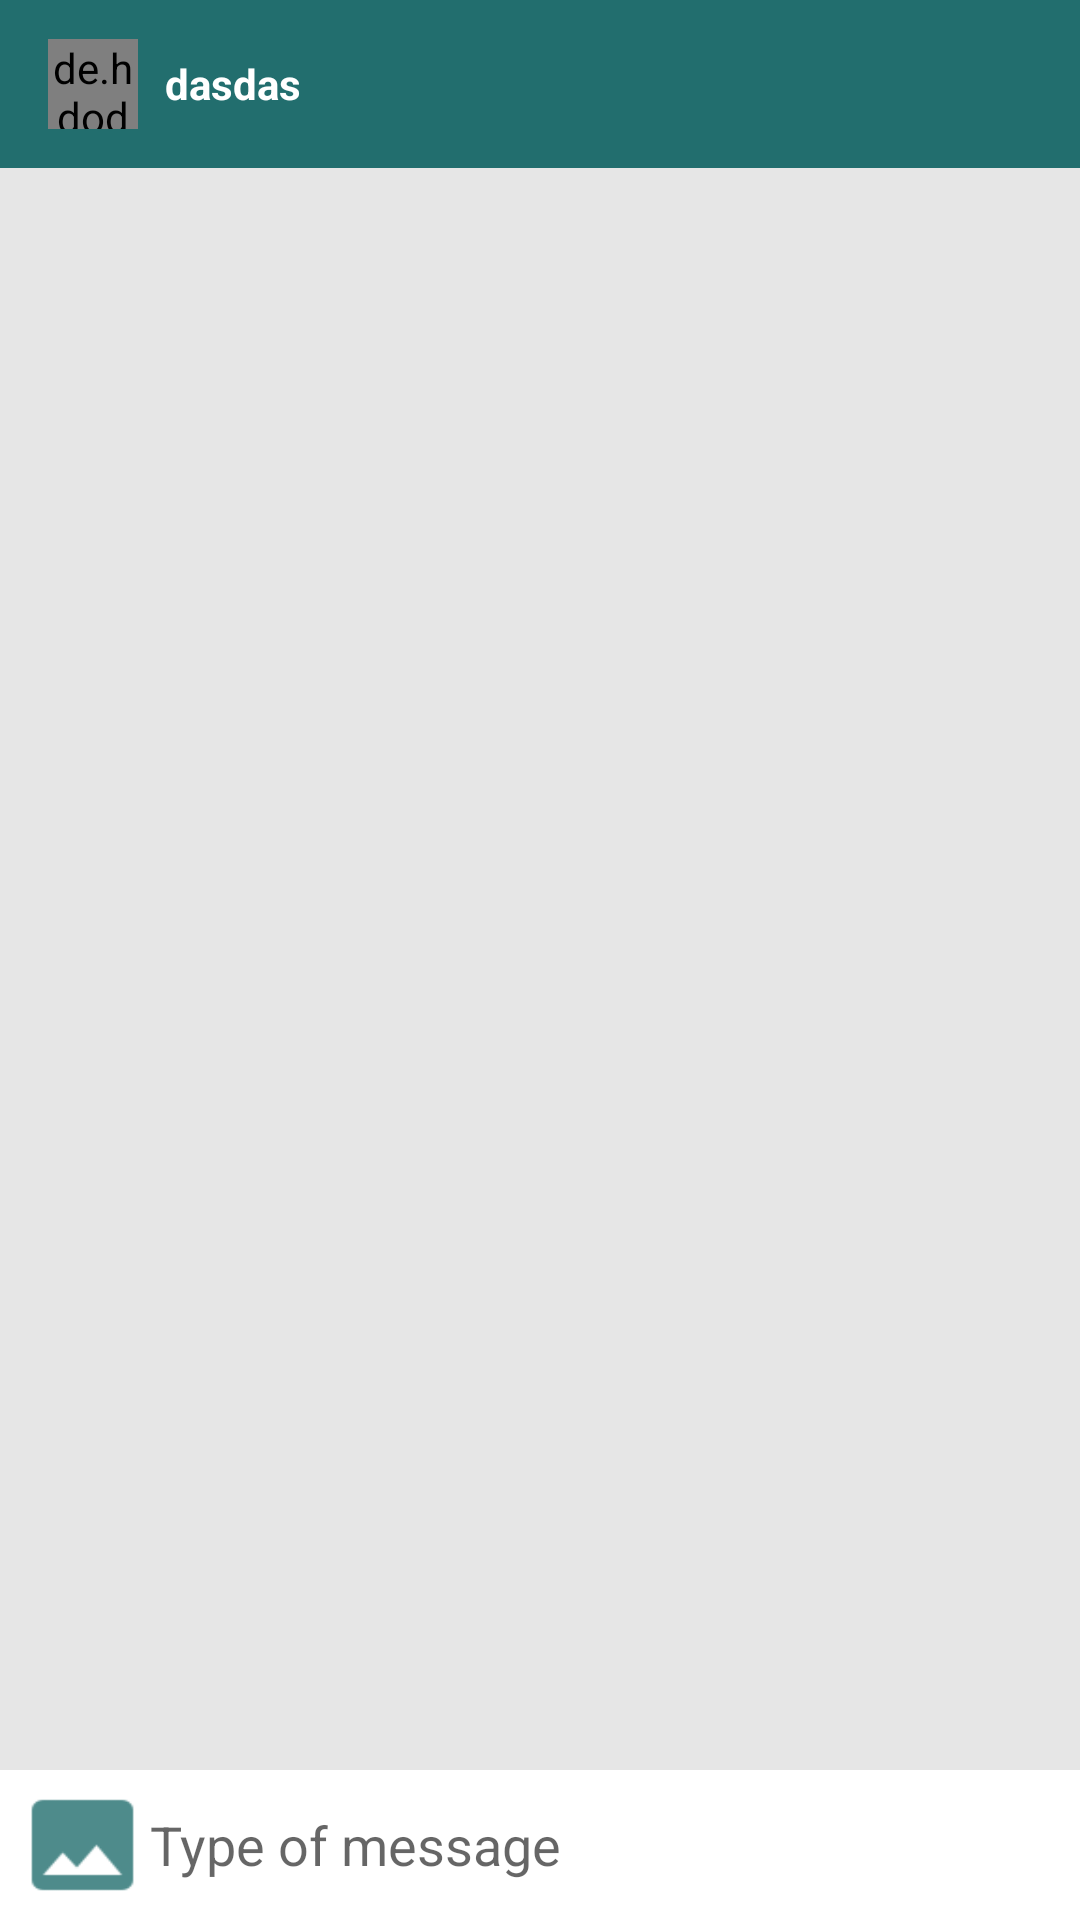

Icon click points for this 1080 x 1920 phone screenshot, format (x,y):
gallery select: (82,1845)
